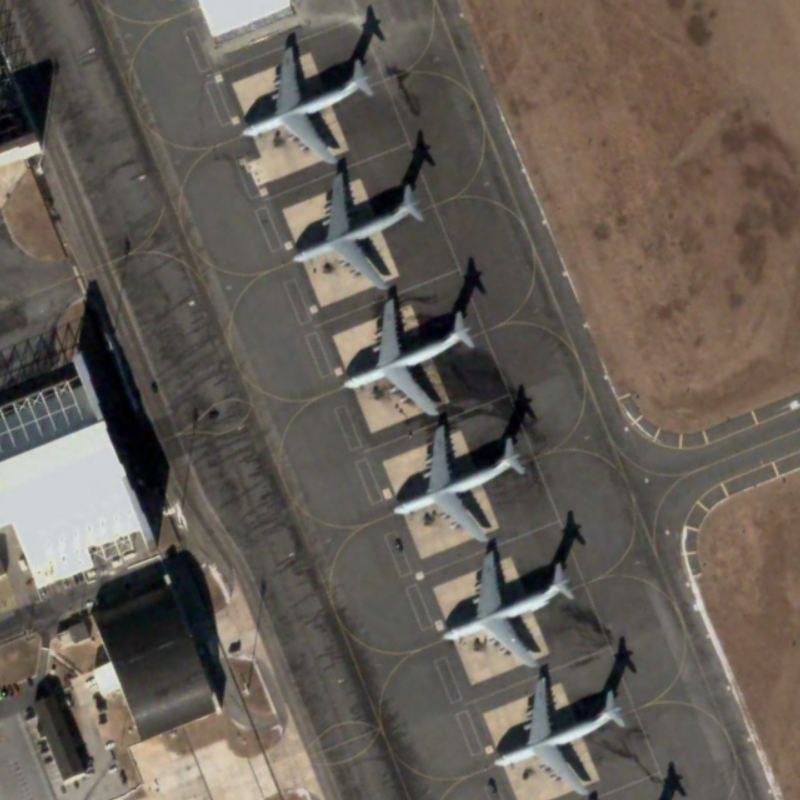A4: (433, 544, 579, 674), (339, 293, 479, 422), (390, 422, 530, 547), (287, 168, 430, 290), (237, 40, 378, 163), (490, 673, 631, 796)
